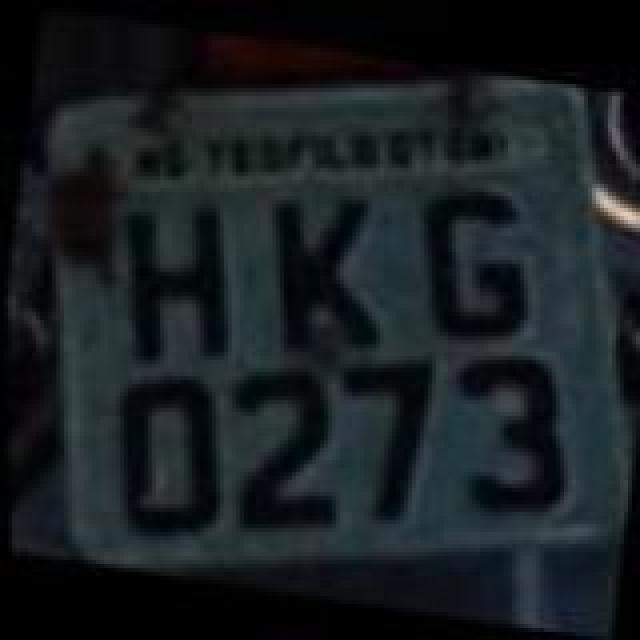2: (212, 356, 364, 544)
3: (432, 336, 588, 524)
7: (310, 344, 442, 540)
G: (404, 180, 552, 348)
H: (100, 192, 252, 376)
K: (254, 178, 410, 370)
O: (92, 358, 244, 542)
